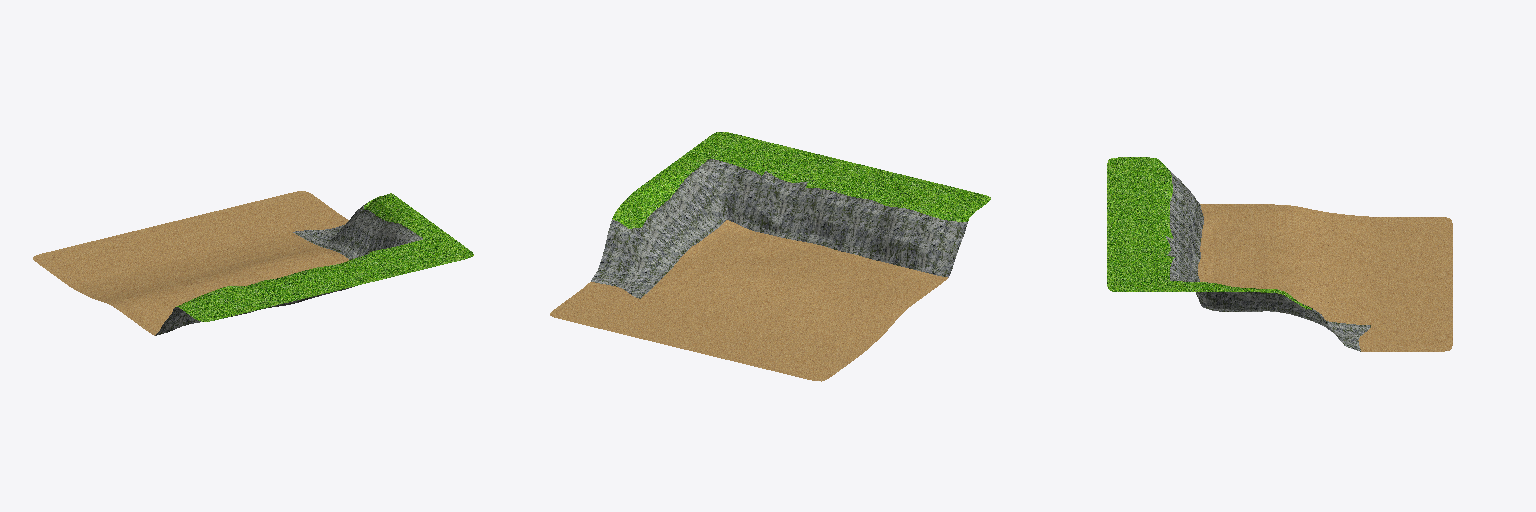
3 renders of one model, left to right at view 1: azimuth 30°, elevation 25°; view 2: azimuth 150°, elevation 25°; view 3: azimuth 270°, elevation 25°, orthographic.
Visible parts, largest first — view 1: beach_Grid.003, highs_Grid.001, cliff_Grid.002; view 2: beach_Grid.003, cliff_Grid.002, highs_Grid.001; view 3: beach_Grid.003, highs_Grid.001, cliff_Grid.002.
Boxes of the visible parts, x1,y1,x2,y2 form: beach_Grid.003: [33, 191, 348, 335]; highs_Grid.001: [175, 193, 473, 321]; cliff_Grid.002: [155, 201, 422, 335]; beach_Grid.003: [550, 220, 947, 381]; cliff_Grid.002: [591, 158, 967, 298]; highs_Grid.001: [612, 132, 990, 228]; beach_Grid.003: [1198, 204, 1452, 351]; highs_Grid.001: [1107, 157, 1311, 309]; cliff_Grid.002: [1166, 170, 1370, 351].
Size of the model in its own units: 102 by 20.6 by 108.
Materials: 3 (3 with a texture image).